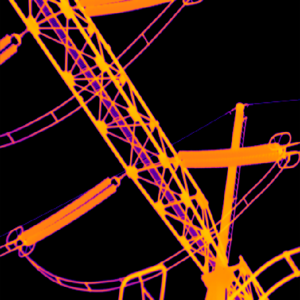insulator: (19, 174, 110, 239), (22, 184, 117, 246), (175, 140, 280, 158), (179, 152, 282, 167), (81, 0, 170, 16)
